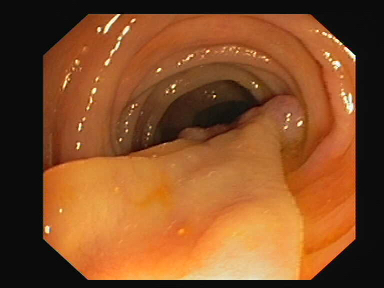polyp: (241, 95, 303, 151), (184, 125, 226, 141)
